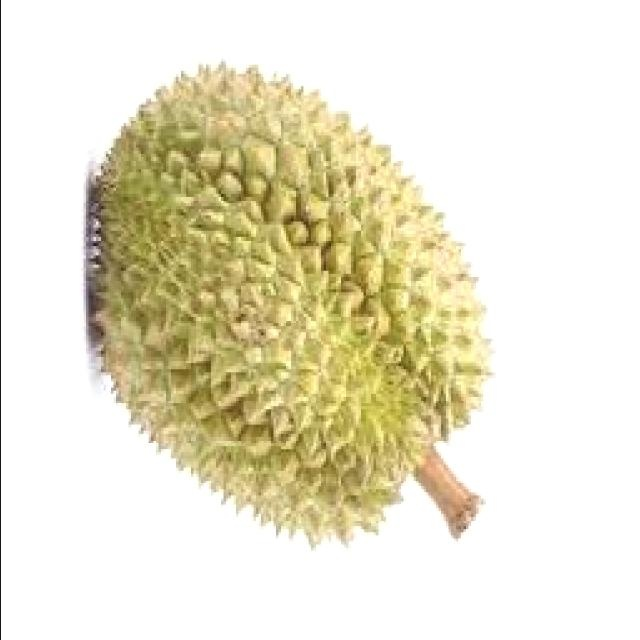agrume: (65, 52, 523, 572)
